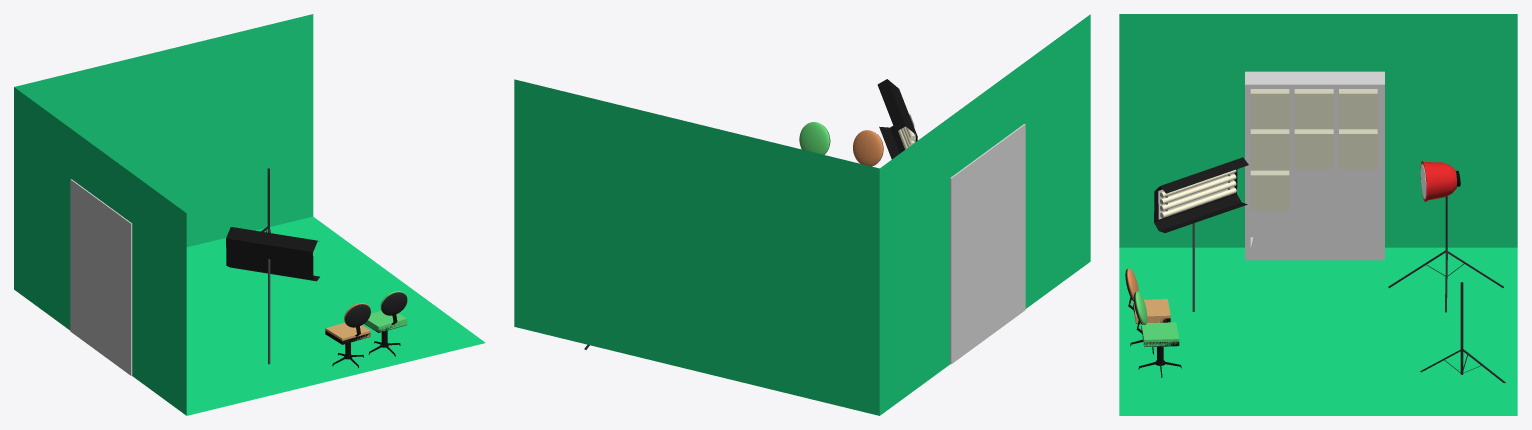
The picture shows the model from 3 angles, left to right: view 1: azimuth 30°, elevation 25°; view 2: azimuth 150°, elevation 25°; view 3: azimuth 270°, elevation 25°; orthographic projection. The views are drawn at different scales.
Visible parts, largest first — view 1: Plane, Kubus, Plane.003, Kubus.029, Bola.002, Bola.001, Kubus.028; view 2: Plane, Kubus, Plane.003, Bola.001, Bola.002; view 3: Plane, Kubus, Plane.003, Kubus.005, Kubus.004, Kubus.007, Kubus.001, Kubus.002, Kubus.006, Kubus.003, Silinder, Kubus.029 (+7 smaller).
Boxes of the visible parts, x1=… form: Plane: x1=14, y1=14, x2=485, y2=415; Kubus: x1=70, y1=179, x2=132, y2=375; Plane.003: x1=226, y1=227, x2=319, y2=281; Kubus.029: x1=364, y1=311, x2=407, y2=332; Bola.002: x1=380, y1=291, x2=407, y2=315; Bola.001: x1=344, y1=303, x2=370, y2=327; Kubus.028: x1=325, y1=322, x2=370, y2=340; Plane: x1=514, y1=14, x2=1090, y2=415; Kubus: x1=950, y1=124, x2=1025, y2=364; Plane.003: x1=877, y1=79, x2=917, y2=159; Bola.001: x1=853, y1=130, x2=883, y2=166; Bola.002: x1=799, y1=122, x2=830, y2=154; Plane: x1=1119, y1=14, x2=1517, y2=415; Kubus: x1=1245, y1=71, x2=1384, y2=260; Plane.003: x1=1154, y1=157, x2=1248, y2=232; Kubus.005: x1=1294, y1=129, x2=1333, y2=169; Kubus.004: x1=1250, y1=129, x2=1289, y2=169; Kubus.007: x1=1250, y1=170, x2=1289, y2=210; Kubus.001: x1=1250, y1=89, x2=1289, y2=128; Kubus.002: x1=1294, y1=89, x2=1333, y2=128; Kubus.006: x1=1339, y1=129, x2=1377, y2=169; Kubus.003: x1=1339, y1=89, x2=1377, y2=128; Silinder: x1=1420, y1=161, x2=1456, y2=201; Kubus.029: x1=1141, y1=322, x2=1179, y2=346.
Bounding box in the file's own units: 3.9 × 2.59 × 3.89.
